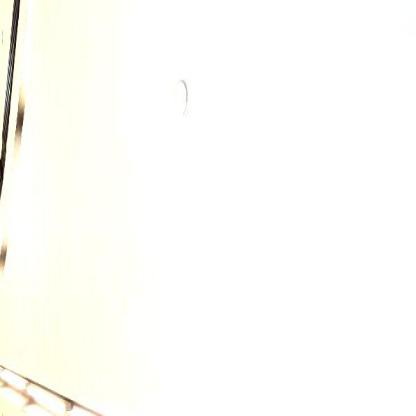light_on: (156, 169, 191, 257)
